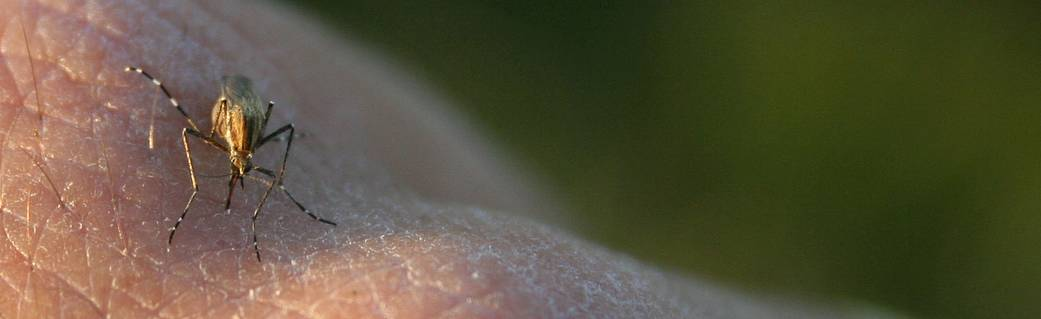mosquito: (89, 49, 412, 287)
